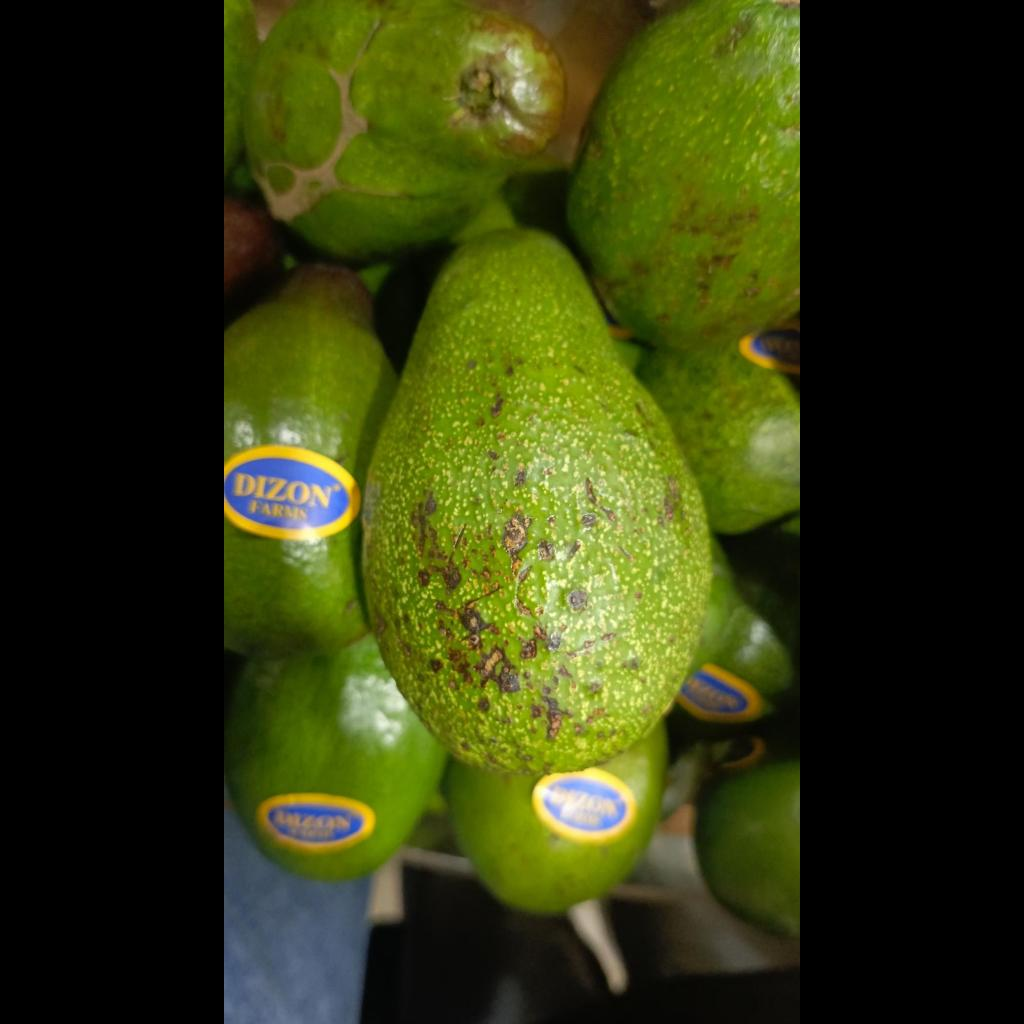scab: (364, 228, 710, 774)
